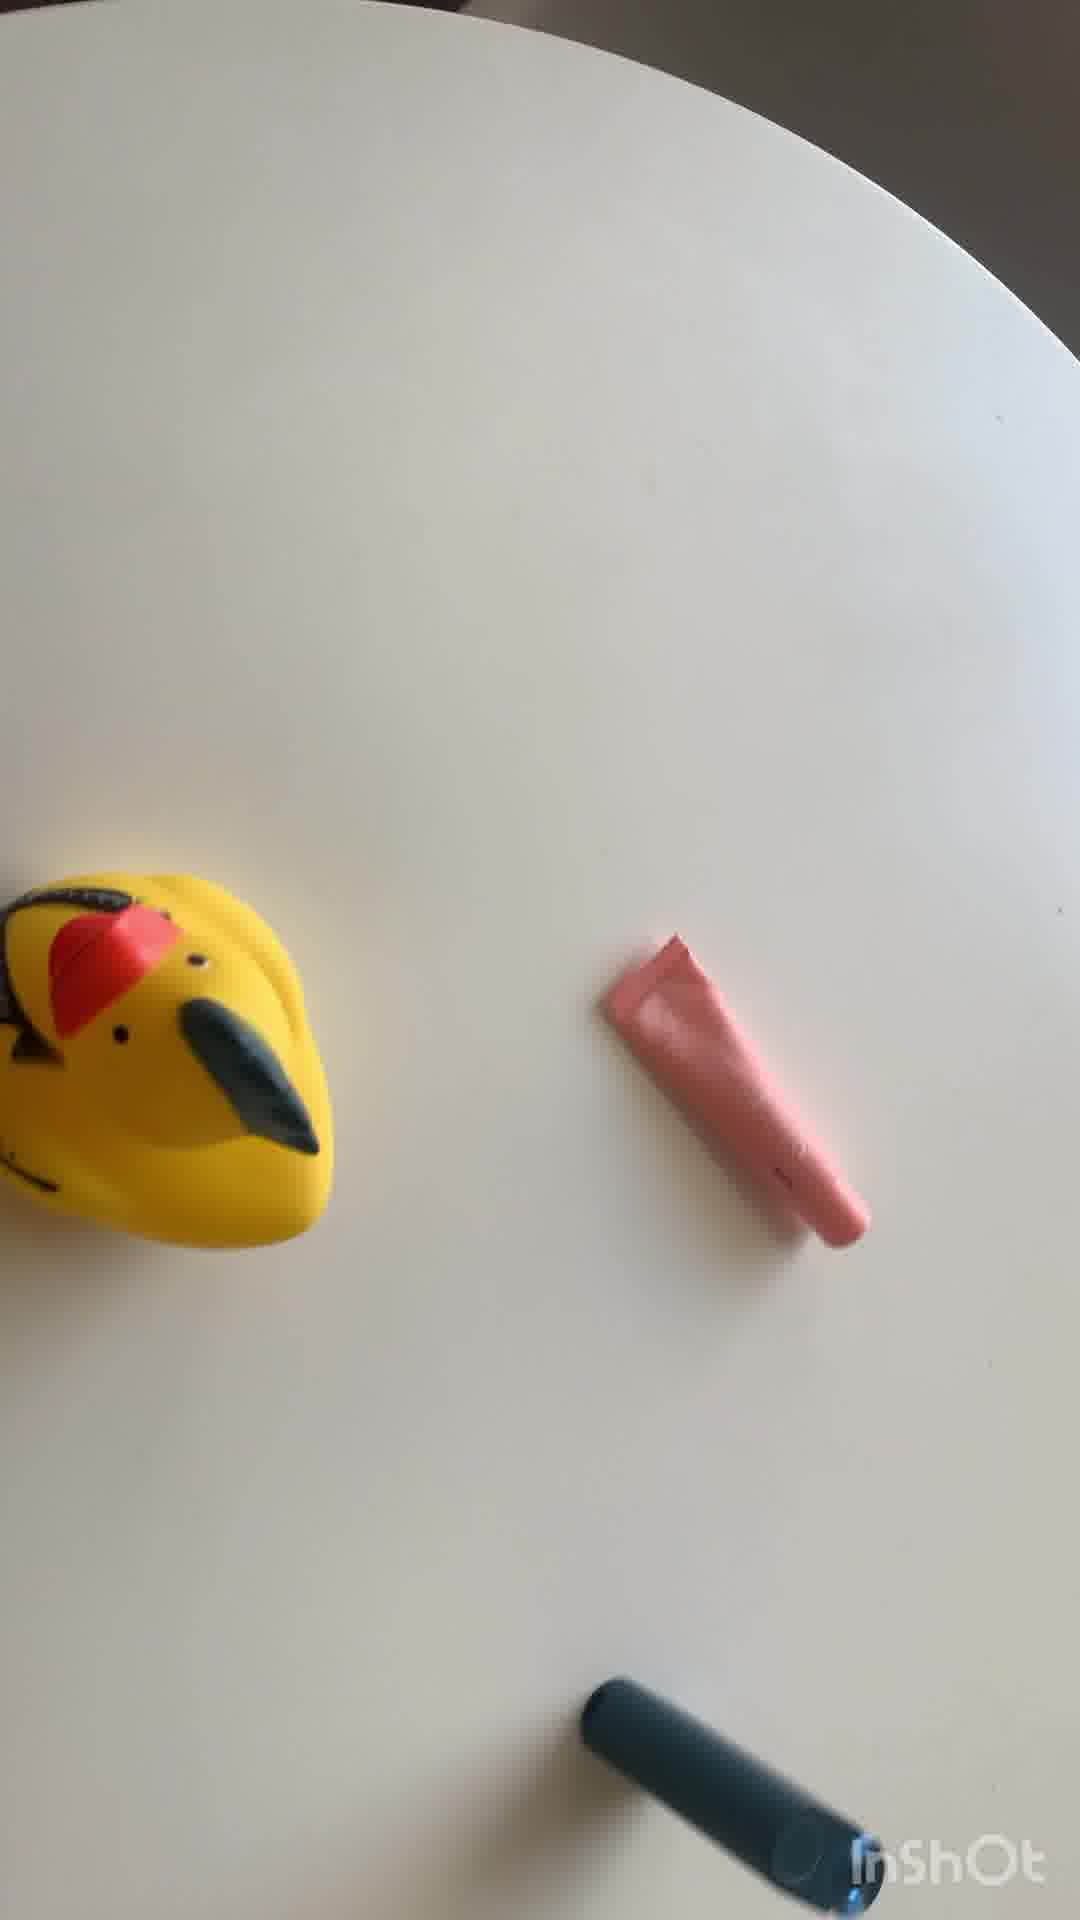duck: (1, 864, 353, 1257)
glo: (574, 1683, 895, 1911)
lip balm: (608, 928, 874, 1254)
